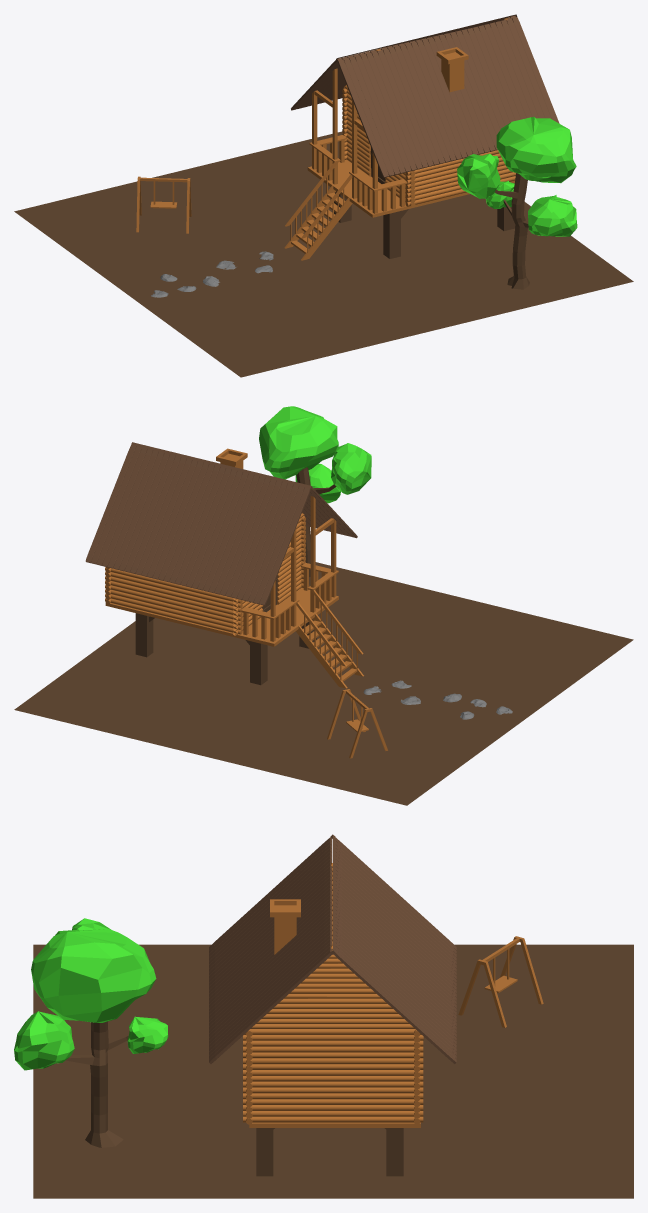
Rendered from low_poly_cabin.glb.
The picture shows the model from 3 angles, top to bottom: view 1: azimuth 30°, elevation 25°; view 2: azimuth 150°, elevation 25°; view 3: azimuth 270°, elevation 25°; orthographic projection. The views are drawn at different scales.
Parts seen in each view (by area): view 1: Plane; view 2: Plane; view 3: Plane.
Part boxes in pixels (<box>): Plane: <box>14,14,633,377</box>; Plane: <box>14,406,633,805</box>; Plane: <box>14,834,633,1198</box>.
Bounding box in the file's own units: 35 × 16.38 × 36.13.
